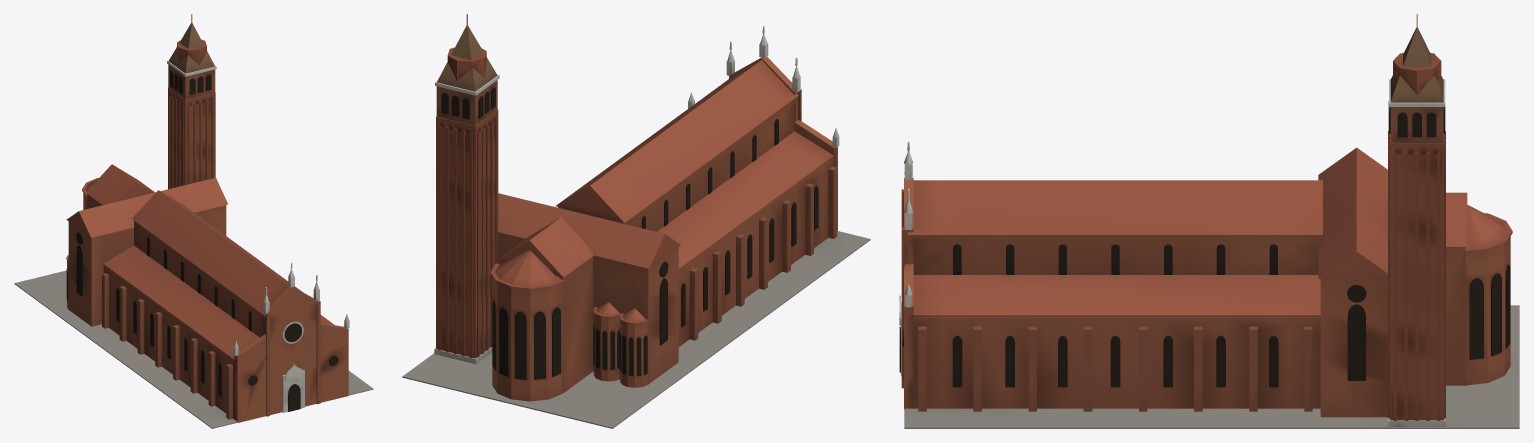
Rendered from frari.glb.
3 renders of one model, left to right at view 1: azimuth 30°, elevation 25°; view 2: azimuth 150°, elevation 25°; view 3: azimuth 270°, elevation 25°, orthographic. The views are drawn at different scales.
Visible parts, largest first — view 1: p1_roofs, p0_walls, p2_campanile; view 2: p0_walls, p1_roofs, p2_campanile; view 3: p0_walls, p1_roofs, p2_campanile.
Boxes of the visible parts, x1=… form: p1_roofs: x1=66, y1=164, x2=349, y2=422; p0_walls: x1=14, y1=178, x2=373, y2=428; p2_campanile: x1=167, y1=14, x2=216, y2=189; p0_walls: x1=402, y1=98, x2=870, y2=428; p1_roofs: x1=496, y1=26, x2=839, y2=277; p2_campanile: x1=434, y1=14, x2=499, y2=364; p0_walls: x1=904, y1=205, x2=1519, y2=428; p1_roofs: x1=899, y1=141, x2=1467, y2=409; p2_campanile: x1=1388, y1=14, x2=1445, y2=426.
Bounding box in the file's own units: 48 × 73.59 × 103.
